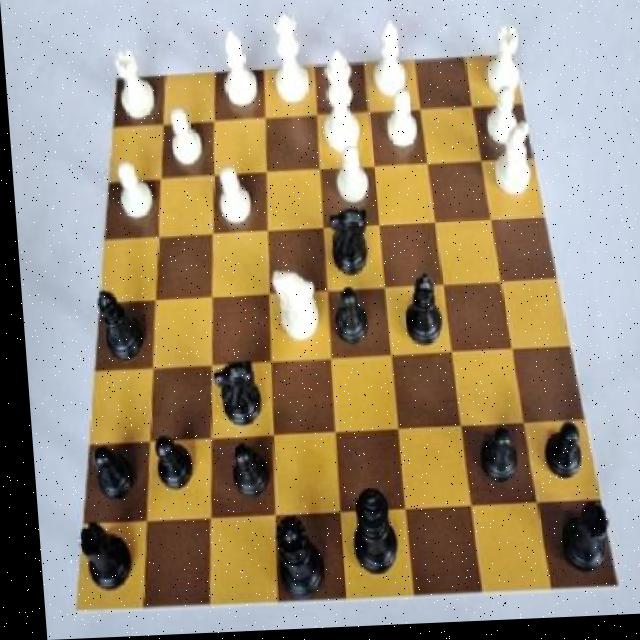bishop: (86, 282, 147, 368), (395, 268, 444, 359)
black-bishop: (338, 484, 398, 582)
black-king: (203, 356, 265, 436), (325, 198, 374, 285)
black-knight: (464, 424, 519, 499), (76, 443, 134, 513), (321, 290, 380, 358), (532, 425, 587, 494), (143, 433, 195, 501), (218, 442, 266, 508)
black-pawn: (264, 516, 325, 608)
black-queen: (63, 523, 133, 601), (541, 502, 609, 581)
black-rook: (213, 25, 263, 119), (363, 18, 414, 107)
white-bishop: (312, 46, 366, 165)
white-king: (267, 265, 317, 354), (485, 126, 534, 209)
white-knight: (208, 161, 261, 238), (475, 83, 525, 157), (108, 155, 157, 228), (378, 90, 428, 159), (326, 144, 374, 215), (162, 106, 205, 173)
white-pawn: (261, 9, 315, 115)
white-queen: (109, 36, 162, 123), (479, 19, 525, 108)
